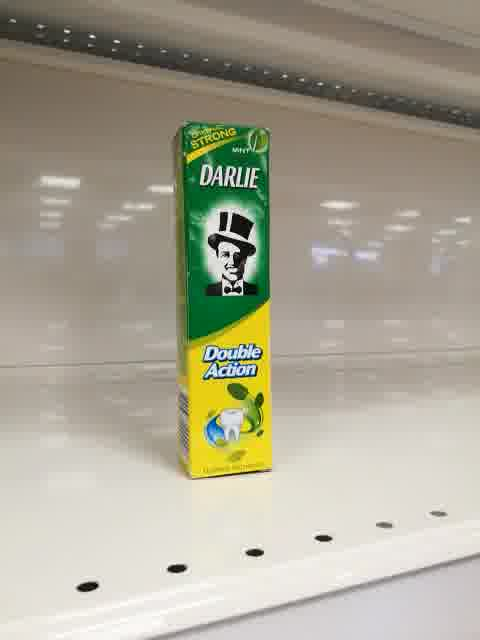toothpaste: (169, 119, 274, 480)
